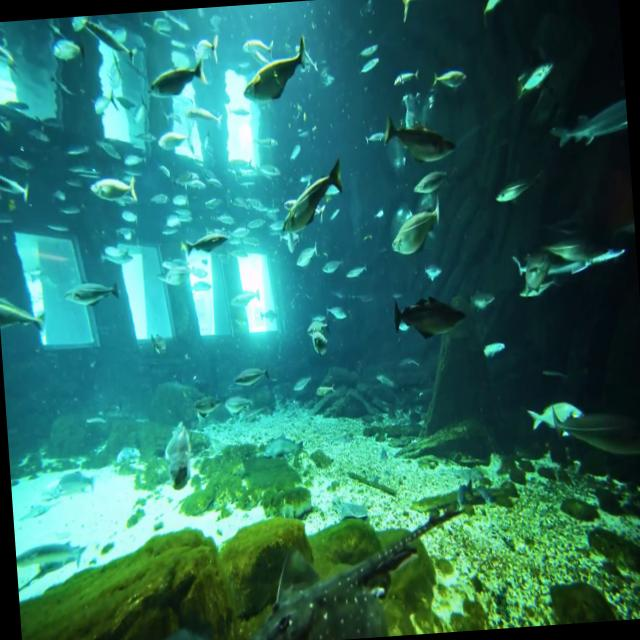fish: (506, 224, 629, 290), (268, 157, 348, 244), (383, 281, 481, 347), (237, 26, 313, 106), (546, 94, 628, 159), (384, 106, 464, 167), (136, 56, 212, 110), (80, 154, 144, 217), (487, 159, 545, 212), (518, 391, 586, 436), (63, 266, 123, 314), (0, 274, 47, 334), (176, 224, 237, 269), (510, 53, 560, 107), (80, 18, 138, 62), (298, 313, 340, 361), (230, 356, 278, 394), (426, 62, 474, 98), (0, 163, 38, 207), (477, 329, 512, 366), (0, 29, 19, 69)
